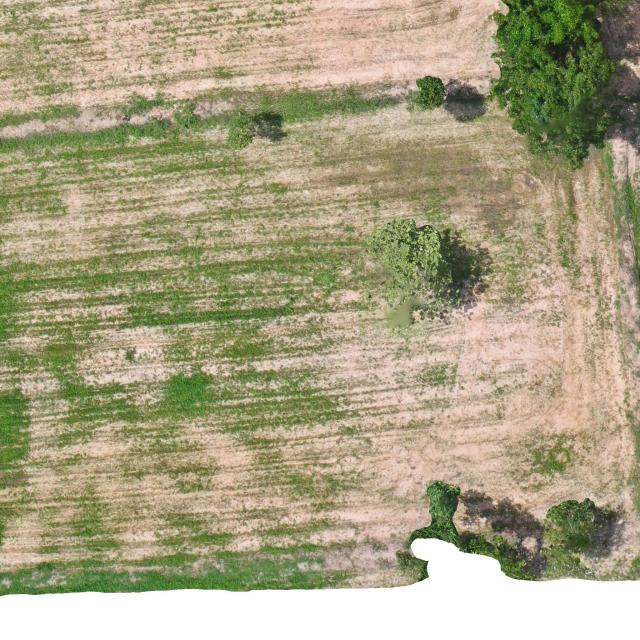tree: (488, 0, 614, 170), (364, 216, 454, 332), (542, 496, 598, 569), (226, 111, 259, 154), (410, 74, 449, 110)
